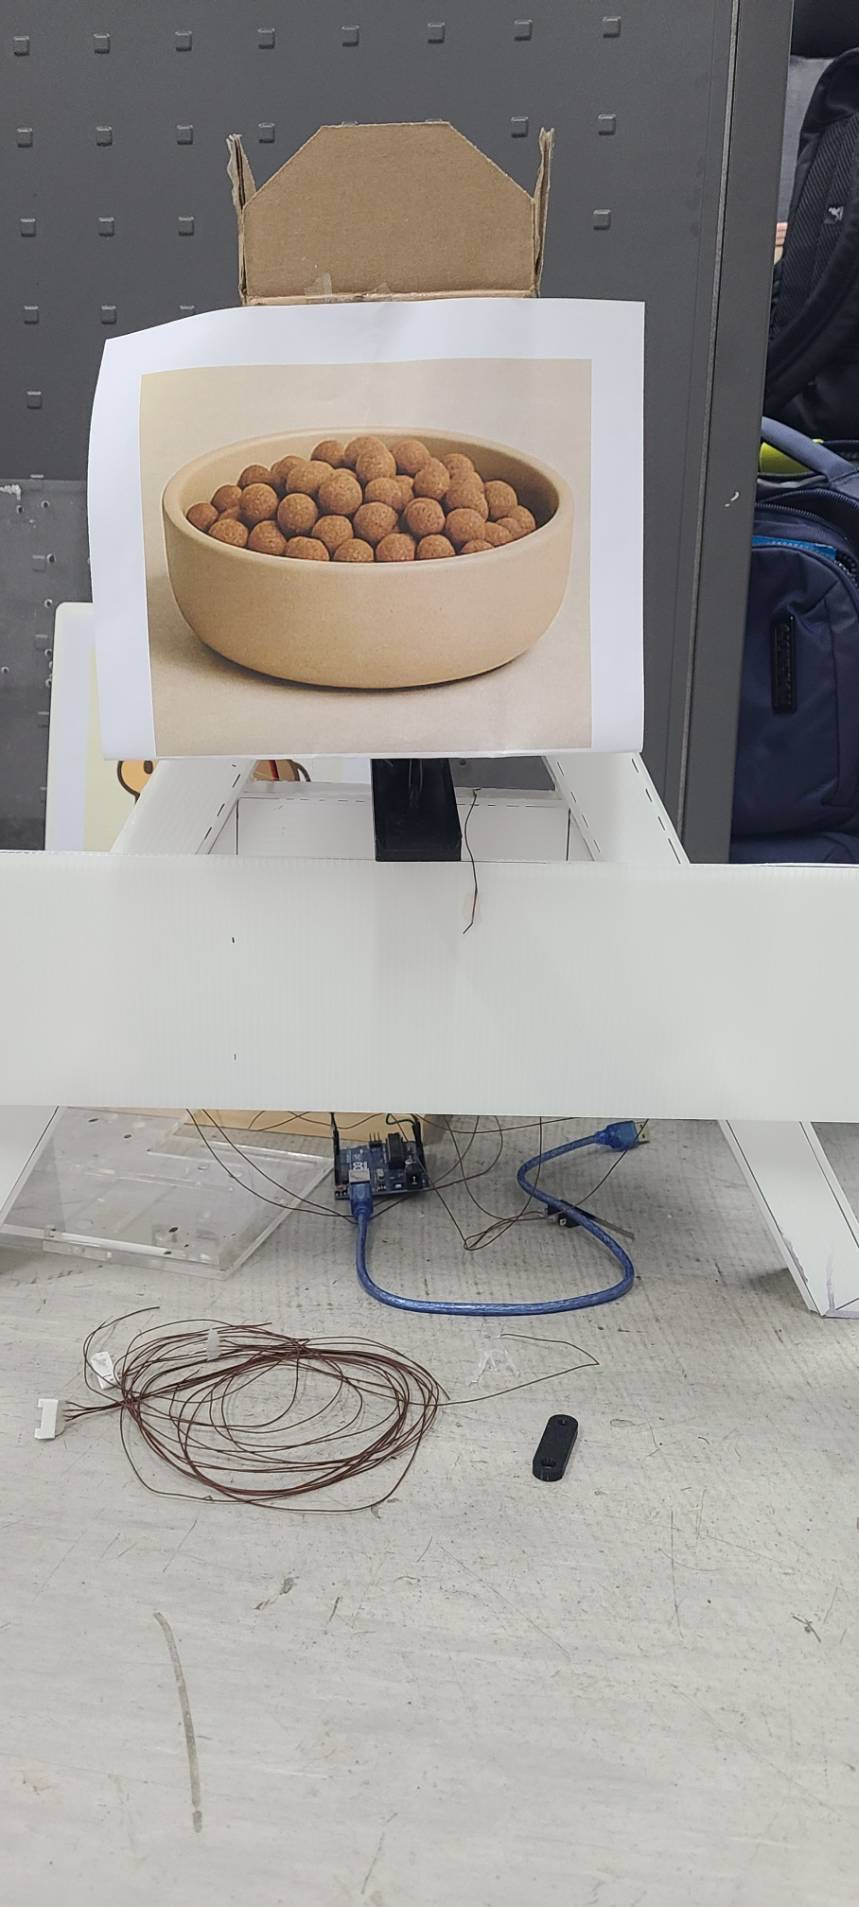machine: (167, 434, 565, 705)
